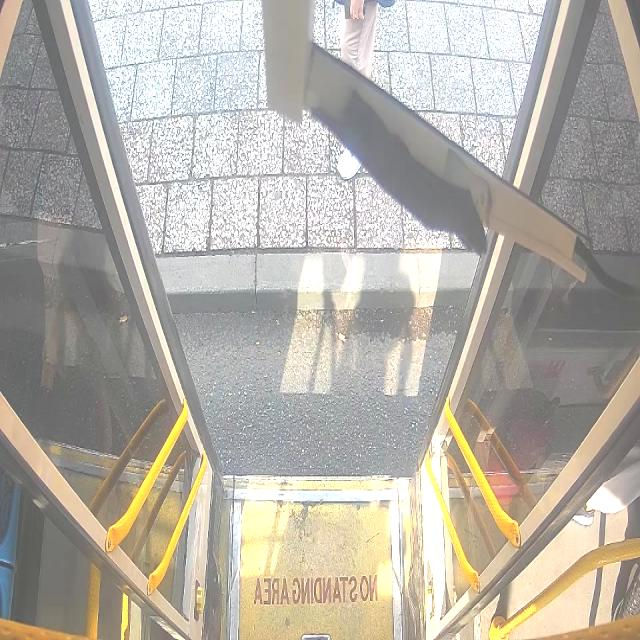open: (58, 0, 560, 486)
